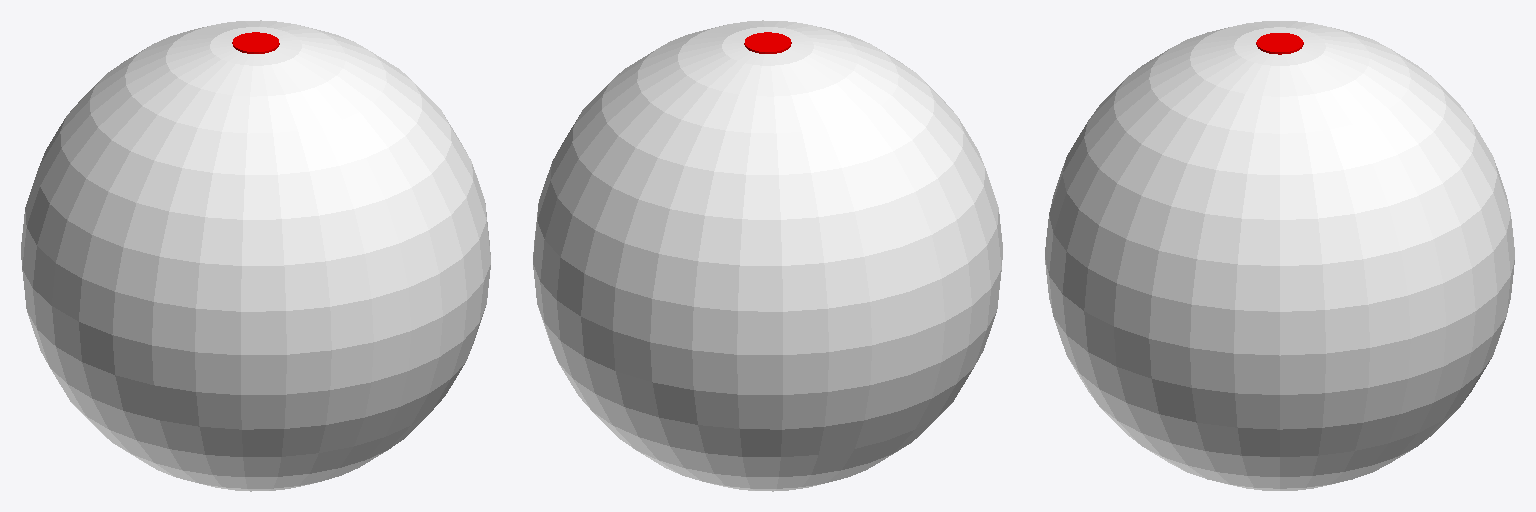
URDF robot description (frame):
<?xml version="1.0"?>
<robot name="frame">

    <link name="base">
        <visual>
            <geometry>
                <sphere radius="0.05"/>
            </geometry>
            <origin rpy="0 0 0" xyz="0 0 0"/>
            <material name="white">
                <color rgba="1 1 1 1"/>
            </material>
        </visual>
    </link>

    <joint name="x_joint" type="fixed">
        <parent link="base"/>
        <child link="x_axis"/>
        <origin xyz="0 0 0"/>
        <axis xyz="1 0 0" />
    </joint>

    <link name="x_axis">
        <visual>
            <geometry>
                <cylinder length="0.05" radius="0.005"/>
            </geometry>
            <origin rpy="0 0 0" xyz="0 0 0.025"/>
            <material name="red">
                <color rgba="1 0 0 1"/>
            </material>
        </visual>
    </link>
<!-- 
    <joint name="tilt_joint" type="revolute">
        <parent link="pan_link"/>
        <child link="tilt_link"/>
        <origin xyz="0 0 0.2"/>
        <axis xyz="0 1 0" />
        <limit effort="300" velocity="0.1" lower="-4.71239" upper="-1.570796"/>
        <dynamics damping="50" friction="1"/>
    </joint>

    <link name="tilt_link">
        <visual>
            <geometry>
                <cylinder length="0.4" radius="0.04"/>
            </geometry>
            <origin rpy="0 1.570796 0" xyz="0 0 0"/>
            <material name="green">
                <color rgba="1 0 0 1"/>
            </material>
        </visual>

        <collision>
            <geometry>
                <cylinder length="0.4" radius="0.06"/>
            </geometry>
            <origin rpy="0 1.570796 0" xyz="0 0 0"/>
        </collision>

        <inertial>
            <mass value="1"/>
            <inertia ixx="1.0" ixy="0.0" ixz="0.0" iyy="1.0" iyz="0.0" izz="1.0"/>
        </inertial>
    </link> -->
    
</robot>

--- What the picture shows (computed from the rendered views, not written in the file) ---
3 views of the same robot in one strip: view 1: azimuth 30°, elevation 25°; view 2: azimuth 150°, elevation 25°; view 3: azimuth 270°, elevation 25° (orthographic).
Robot: frame — 2 links, 1 joints (1 fixed); root link base; default pose: all joints at 0.
Links seen in each view (by area): view 1: base, x_axis; view 2: base, x_axis; view 3: base, x_axis.
Boxes of the visible links, x1,y1,x2,y2 form: base: (21, 20, 490, 491); x_axis: (232, 32, 279, 53); base: (533, 20, 1002, 491); x_axis: (744, 32, 791, 53); base: (1045, 21, 1514, 490); x_axis: (1256, 33, 1303, 54).
Size in the robot's own frame: 0.1 by 0.1 by 0.1 metres.
Geometry: primitives only (box / cylinder / sphere), no mesh files.